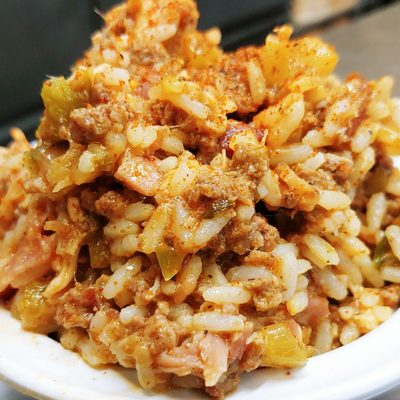sandwich: (1, 9, 400, 397)
